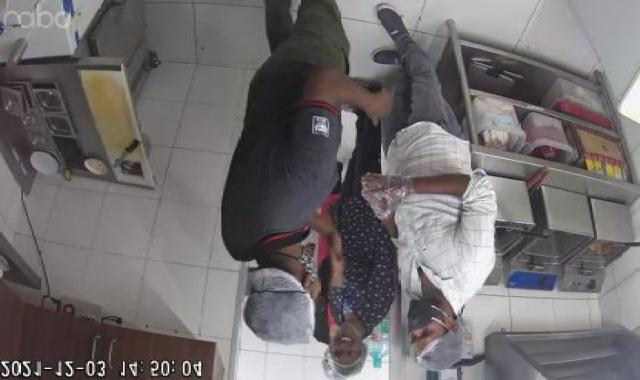hairnet: (233, 267, 319, 343), (408, 312, 496, 374), (321, 339, 384, 380)
